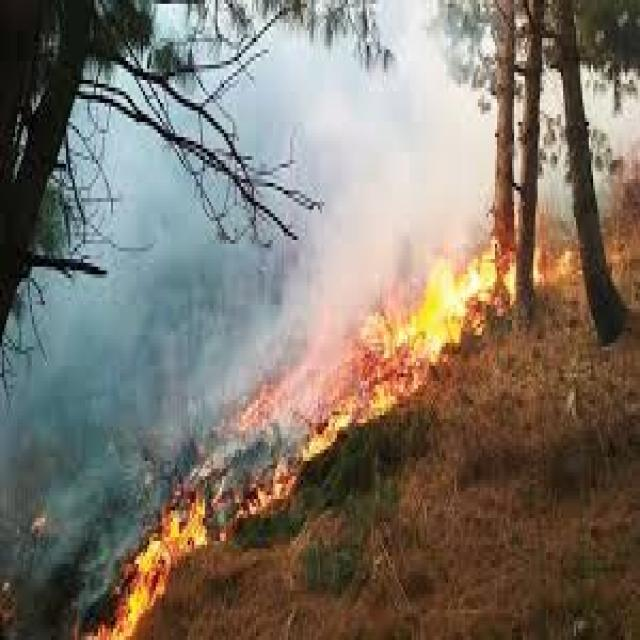Fire: (322, 217, 417, 473), (323, 230, 483, 371), (92, 494, 203, 634), (237, 339, 308, 502)
Smoke: (70, 52, 500, 418), (56, 289, 275, 482), (114, 262, 386, 392), (321, 71, 452, 298), (18, 321, 129, 575), (146, 268, 244, 412)
